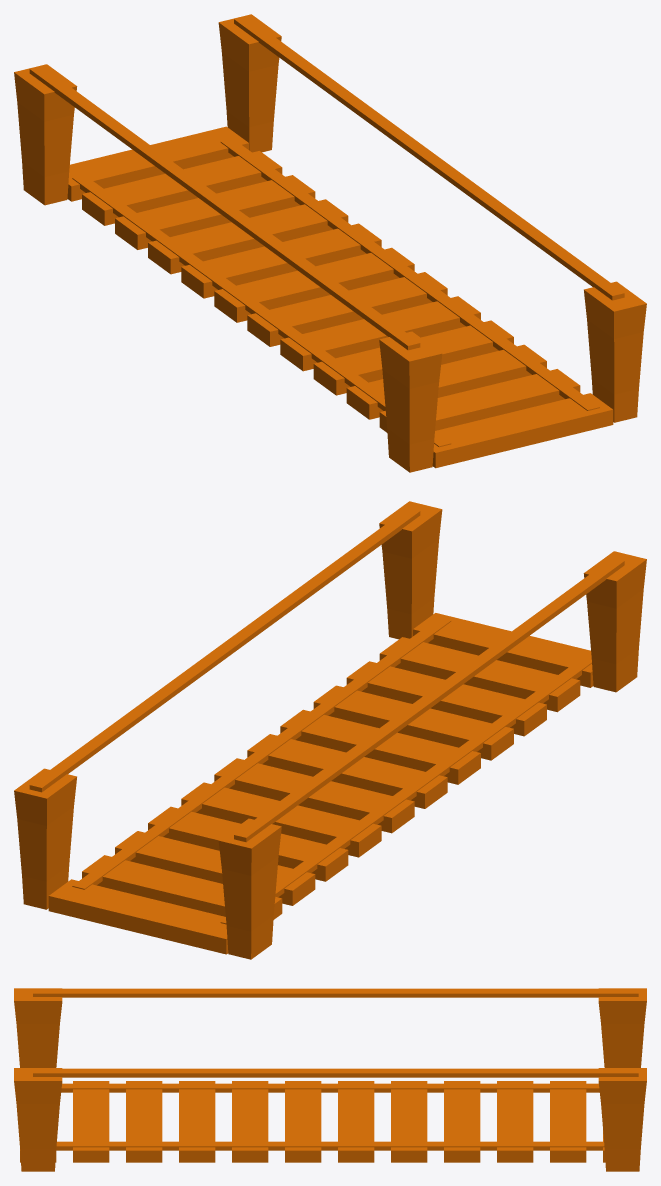
Rendered from puente.fbx.
3 renders of one model, top to bottom at view 1: azimuth 30°, elevation 25°; view 2: azimuth 150°, elevation 25°; view 3: azimuth 270°, elevation 25°, orthographic. The views are drawn at different scales.
Visible parts, largest first — view 1: Cube.005; view 2: Cube.005; view 3: Cube.005.
Part boxes in pixels (x1,y1,x2,y2): Cube.005: (14, 14, 646, 472); Cube.005: (14, 501, 646, 959); Cube.005: (14, 988, 646, 1171).
Size of the model in its own units: 765 by 373 by 2205.
